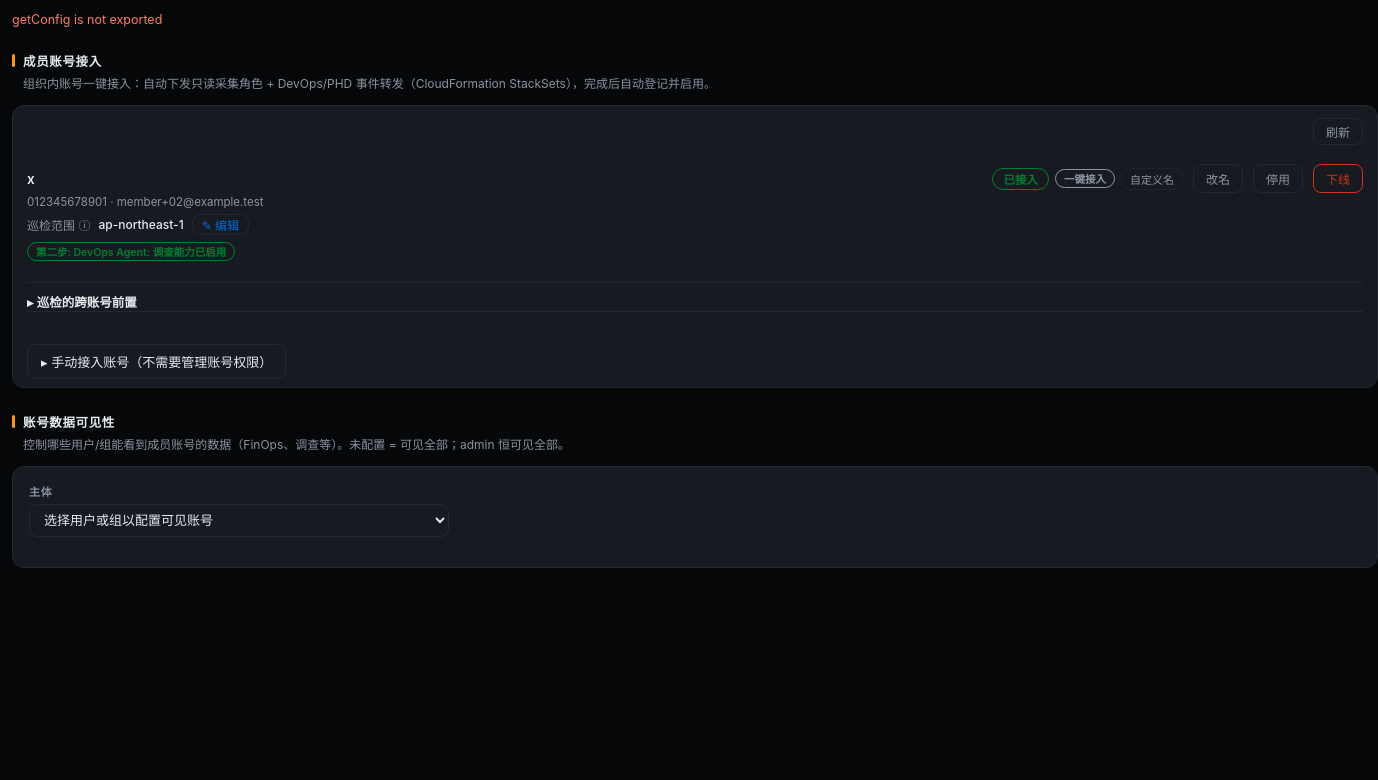
账号 alias（显示名） › ★★★ 保存后按 pushLabelUpdated 分两种反馈说
What coordinates should you click on to do the following:
click the button "改名"
I would click on:
 (1218, 178)
Its box is [1193, 164, 1243, 193].
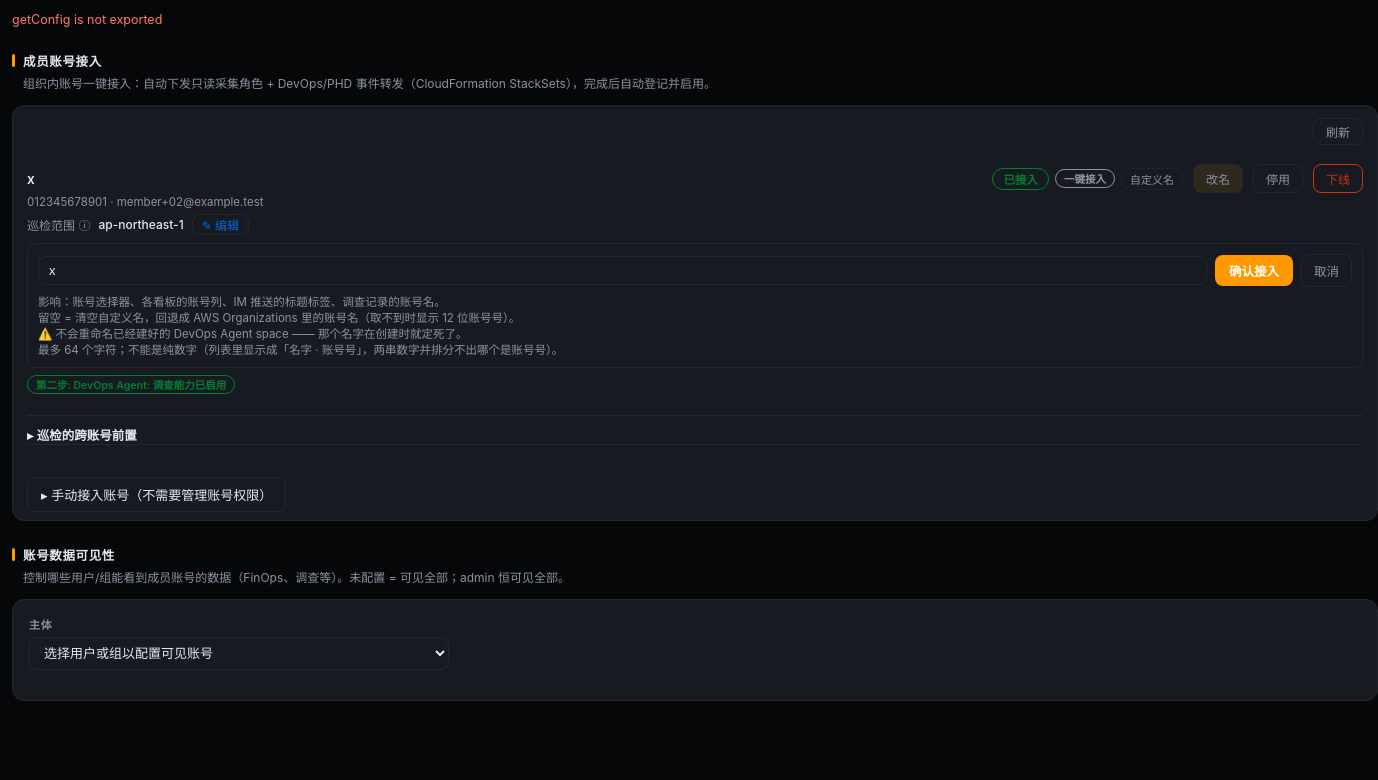
Expected: the field is shown, [38, 256, 1207, 285]
What coordinates should you click on to do the following:
click the button "确认接入"
I would click on:
 (1254, 270)
Its box is [1215, 255, 1293, 286].
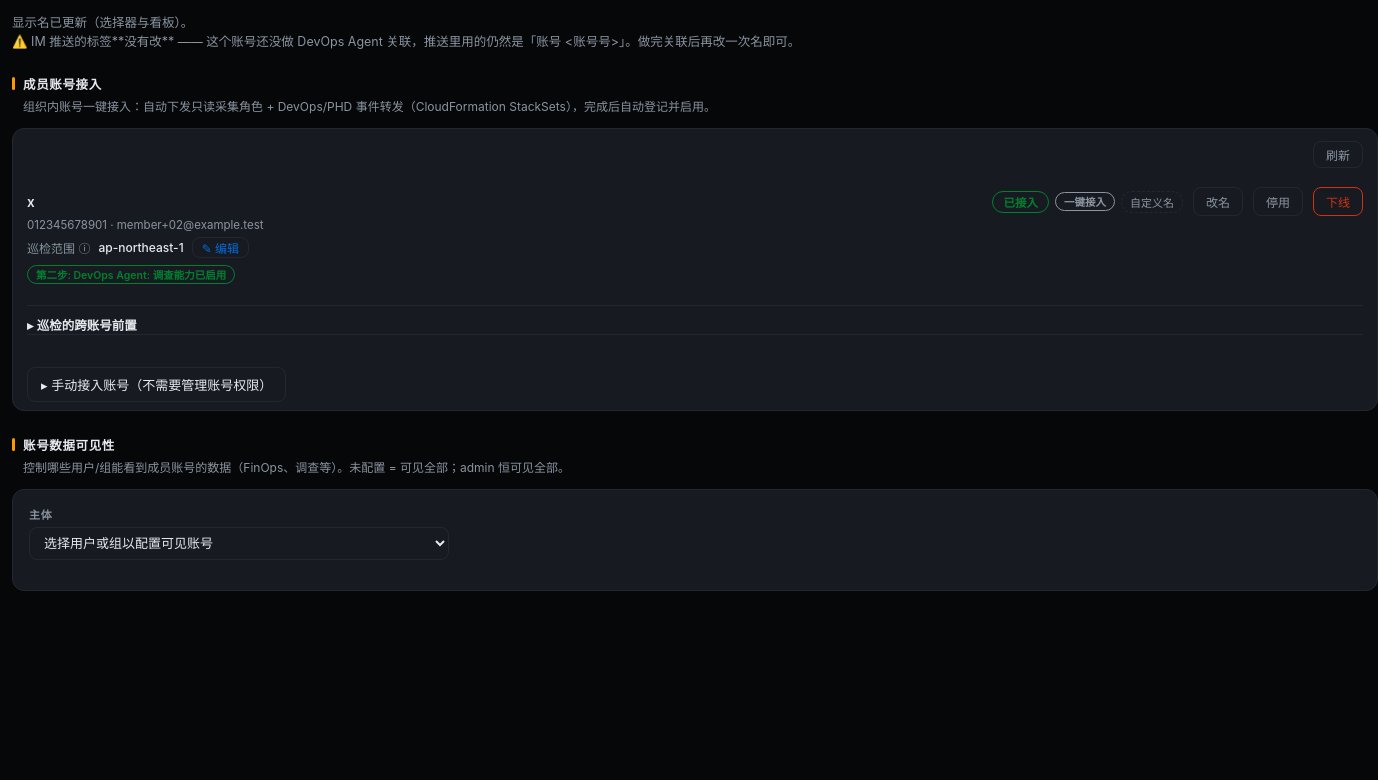
Expected: the text "没有改" is shown, [12, 15, 800, 49]
